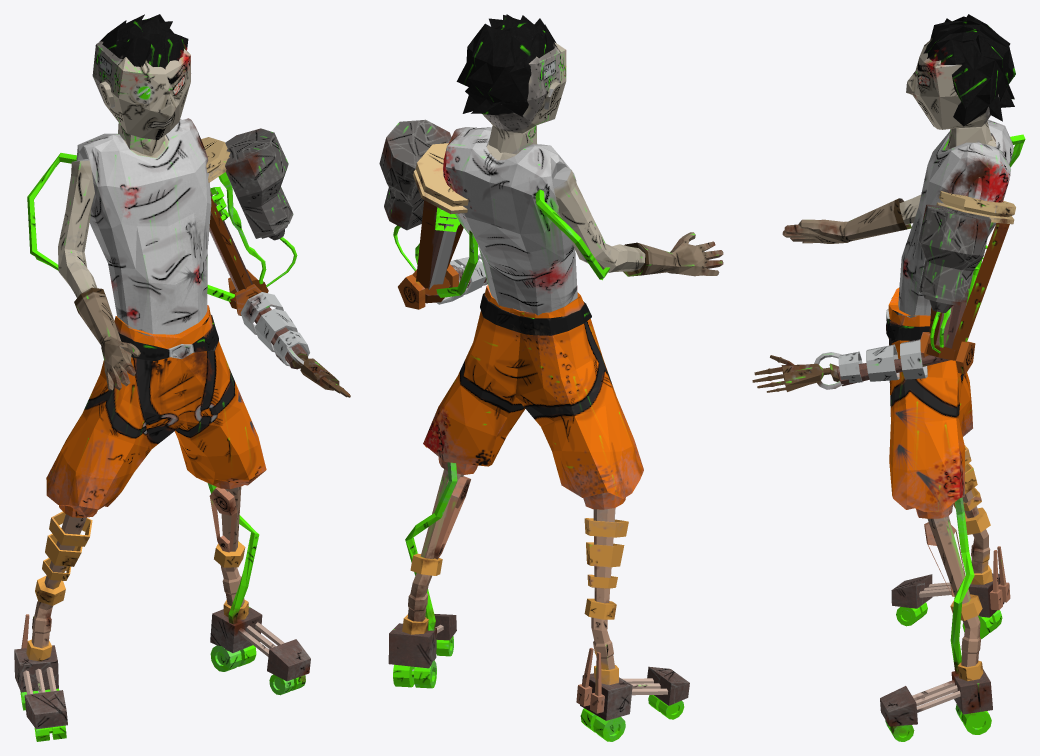
Rendered from CyborgFINALAnimation_000003.obj.
3 views of the same model, side by side, from view 1: azimuth 30°, elevation 25°; view 2: azimuth 150°, elevation 25°; view 3: azimuth 270°, elevation 25° (orthographic). The views are drawn at different scales.
Parts seen in each view (by area): view 1: CyborgMesh_Cube.002; view 2: CyborgMesh_Cube.002; view 3: CyborgMesh_Cube.002.
Part boxes in pixels (left/top/right/bottom): CyborgMesh_Cube.002: left=14, top=14, right=350, bottom=741; CyborgMesh_Cube.002: left=379, top=14, right=723, bottom=741; CyborgMesh_Cube.002: left=752, top=14, right=1025, bottom=741.
Bounding box in the file's own units: 4.11 × 9.6 × 3.58.
